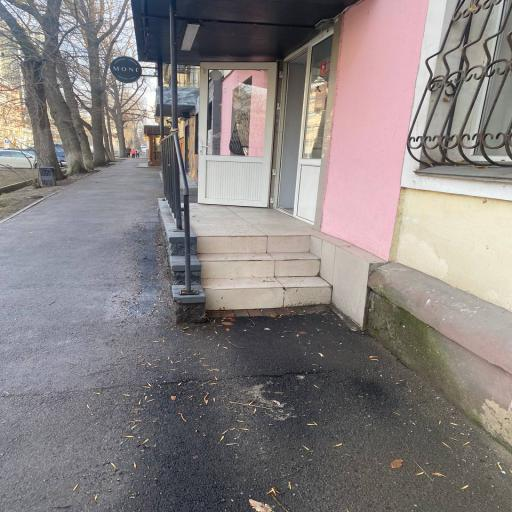corridor: (198, 62, 276, 207)
laptop: (126, 146, 131, 158)
shelf: (0, 160, 511, 512)
sofa: (191, 205, 331, 312)
traffic_light: (39, 167, 55, 187)
